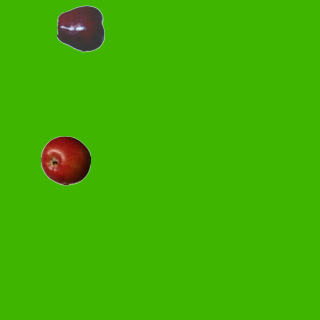Apple Braeburn: (40, 135, 90, 185)
Apple Red Delicious: (56, 3, 106, 53)
